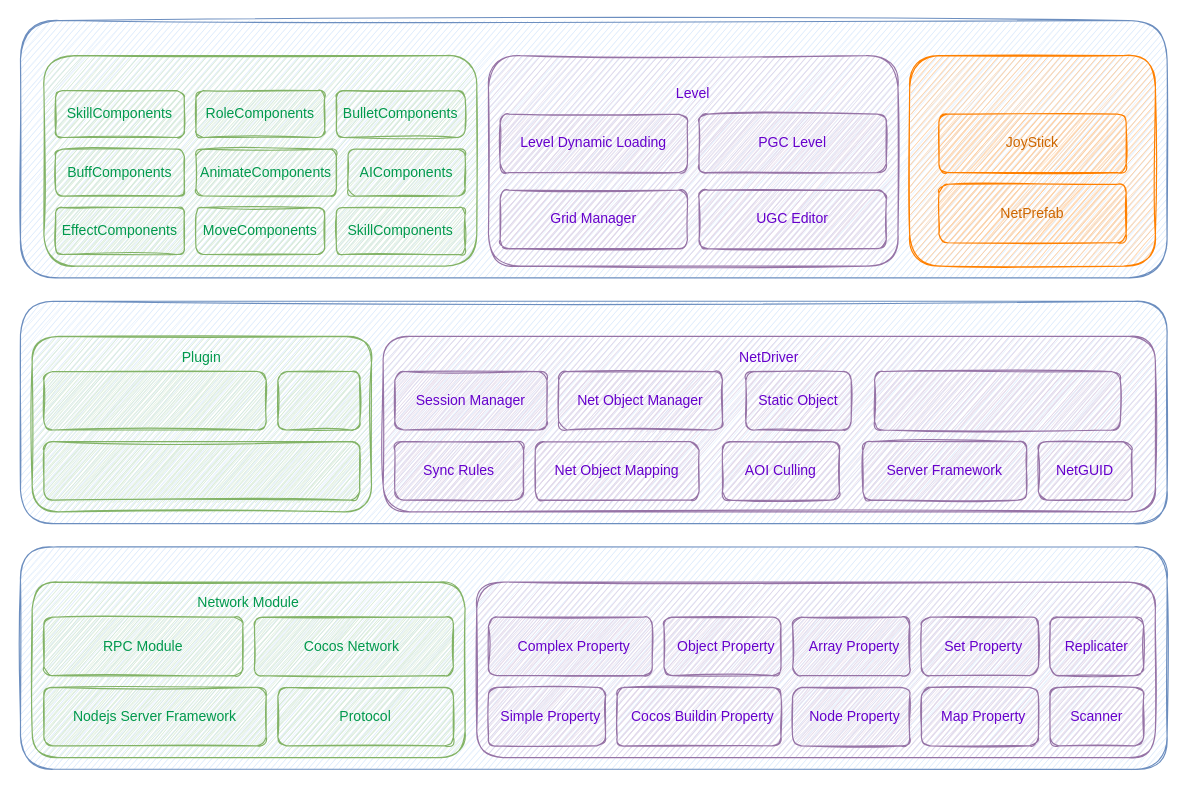
Image size: 1188x790. Some labels were removed from this diagram. Each missing label, with the box of its shape:
Basic Layer: (19, 546, 1167, 769)
Building pipeline generate server code: (43, 441, 360, 500)
Cocos Engine whithout render: (43, 370, 266, 430)
Framework Layer: (19, 300, 1167, 524)
GamePlay Layer: (19, 19, 1167, 278)
LAN: (277, 370, 360, 430)
Net Gameplay Framework: (873, 370, 1120, 430)
ObjectComponents: (43, 54, 477, 266)
Other: (909, 54, 1155, 266)
Sync Module: (476, 581, 1155, 758)
